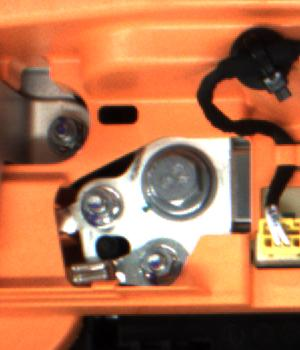nut_b: (137, 139, 223, 227)
screw_s: (83, 184, 129, 228), (42, 113, 84, 153), (142, 243, 181, 283)
